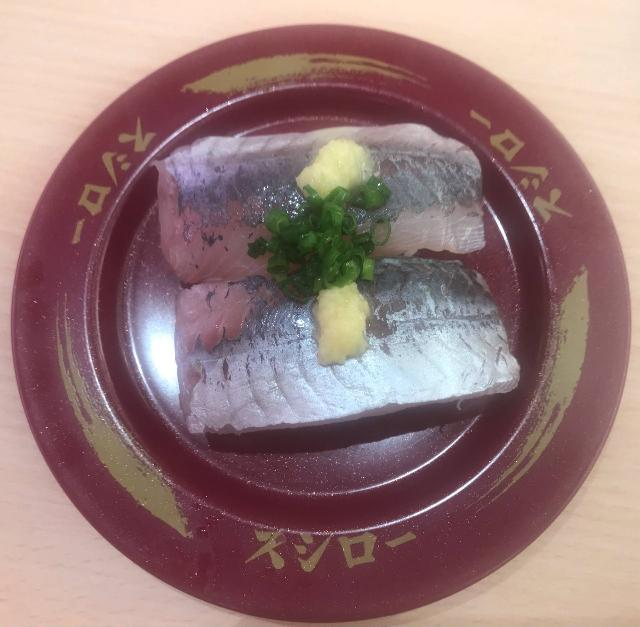janred: (13, 34, 640, 627)
